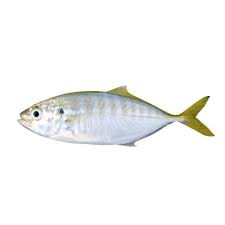Ikan Selar: (17, 89, 208, 145)
